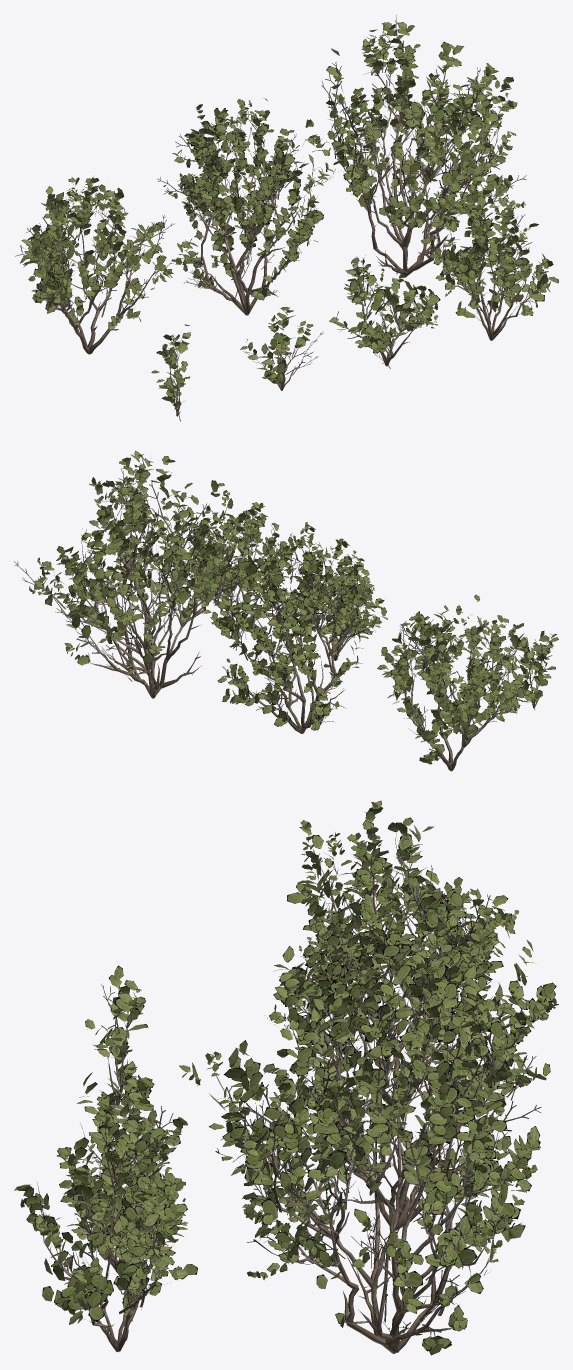
File: searsia_lucida.glb
3 views of the same model, one above another, from view 1: azimuth 30°, elevation 25°; view 2: azimuth 150°, elevation 25°; view 3: azimuth 270°, elevation 25° (orthographic). The views are drawn at different scales.
Visible parts, largest first — view 1: searsia_lucida_a_LOD0, searsia_lucida_b_LOD0, searsia_lucida_c_LOD0, searsia_lucida_d_LOD0, searsia_lucida_e_LOD0, searsia_lucida_f_LOD0, searsia_lucida_g_LOD0; view 2: searsia_lucida_a_LOD0, searsia_lucida_b_LOD0, searsia_lucida_c_LOD0, searsia_lucida_d_LOD0, searsia_lucida_e_LOD0, searsia_lucida_f_LOD0, searsia_lucida_g_LOD0; view 3: searsia_lucida_a_LOD0, searsia_lucida_b_LOD0, searsia_lucida_d_LOD0, searsia_lucida_c_LOD0, searsia_lucida_e_LOD0, searsia_lucida_g_LOD0, searsia_lucida_f_LOD0.
Boxes of the visible parts, bbox=[...] form: searsia_lucida_a_LOD0: bbox=[305, 15, 526, 277]; searsia_lucida_b_LOD0: bbox=[157, 98, 341, 315]; searsia_lucida_c_LOD0: bbox=[15, 176, 197, 354]; searsia_lucida_d_LOD0: bbox=[421, 190, 558, 340]; searsia_lucida_e_LOD0: bbox=[329, 255, 451, 368]; searsia_lucida_f_LOD0: bbox=[240, 307, 323, 390]; searsia_lucida_g_LOD0: bbox=[151, 324, 190, 421]; searsia_lucida_a_LOD0: bbox=[14, 450, 271, 698]; searsia_lucida_b_LOD0: bbox=[210, 522, 374, 733]; searsia_lucida_c_LOD0: bbox=[377, 595, 558, 771]; searsia_lucida_d_LOD0: bbox=[173, 498, 297, 629]; searsia_lucida_e_LOD0: bbox=[290, 562, 387, 660]; searsia_lucida_f_LOD0: bbox=[399, 611, 466, 682]; searsia_lucida_g_LOD0: bbox=[514, 625, 555, 710]; searsia_lucida_a_LOD0: bbox=[179, 951, 540, 1355]; searsia_lucida_b_LOD0: bbox=[264, 876, 558, 1230]; searsia_lucida_d_LOD0: bbox=[14, 1109, 197, 1352]; searsia_lucida_c_LOD0: bbox=[273, 800, 518, 1107]; searsia_lucida_e_LOD0: bbox=[57, 1073, 187, 1270]; searsia_lucida_g_LOD0: bbox=[85, 965, 147, 1107]; searsia_lucida_f_LOD0: bbox=[77, 1072, 162, 1180].
Bounding box in the file's own units: 4.88 × 2.35 × 2.85.
Materials: 3 (3 with a texture image).
